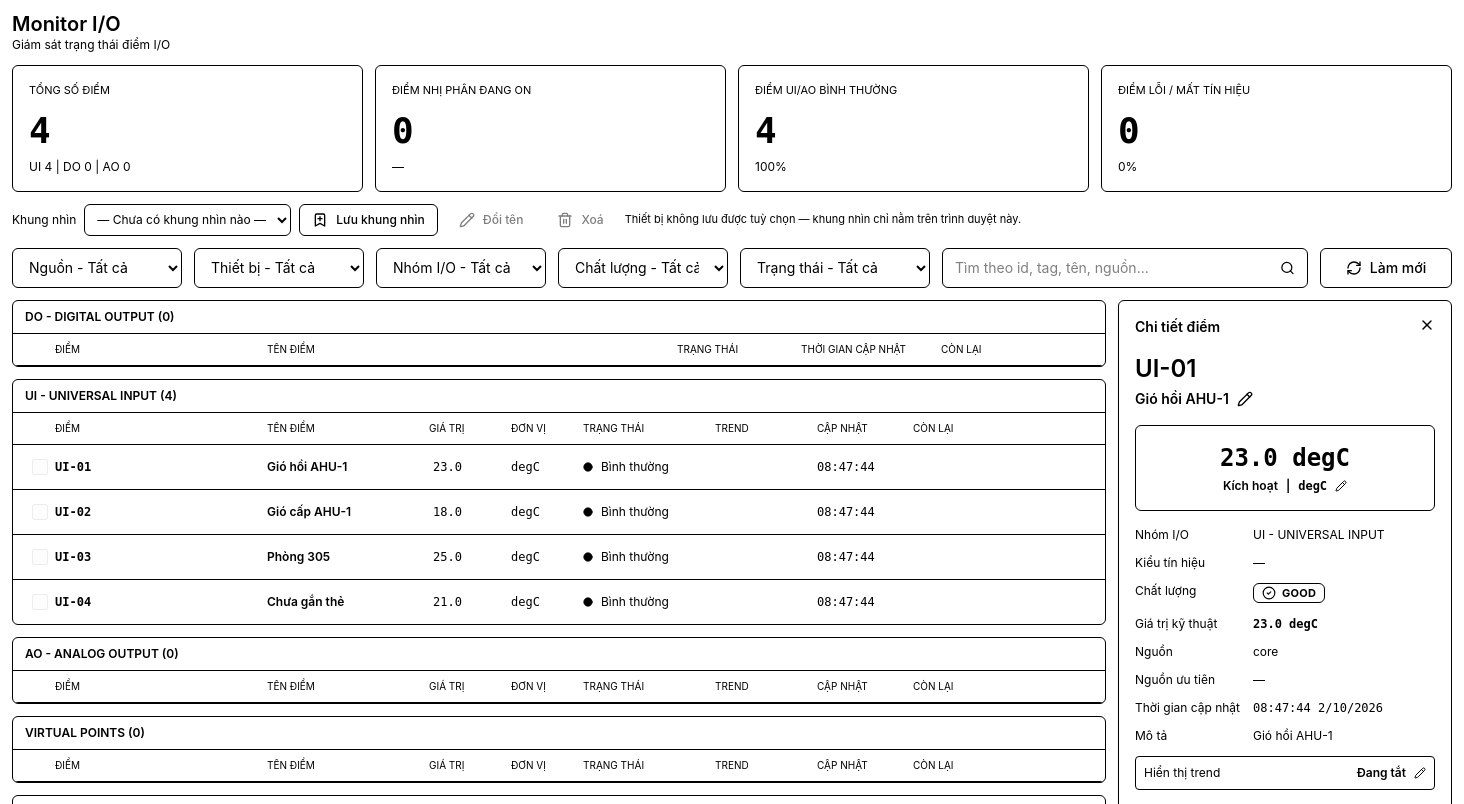
T57-3.1 / T57-4.1 — nhóm điểm theo thiết bị công nghệ › chọn một thiết bị thì chỉ còn điểm của thiết bị đó
The width and height of the screenshot is (1464, 804).
Step 1. Select "AHU-1" in the dropdown named "Lọc theo thiết bị công nghệ" → (279,268), box [194, 248, 364, 288]
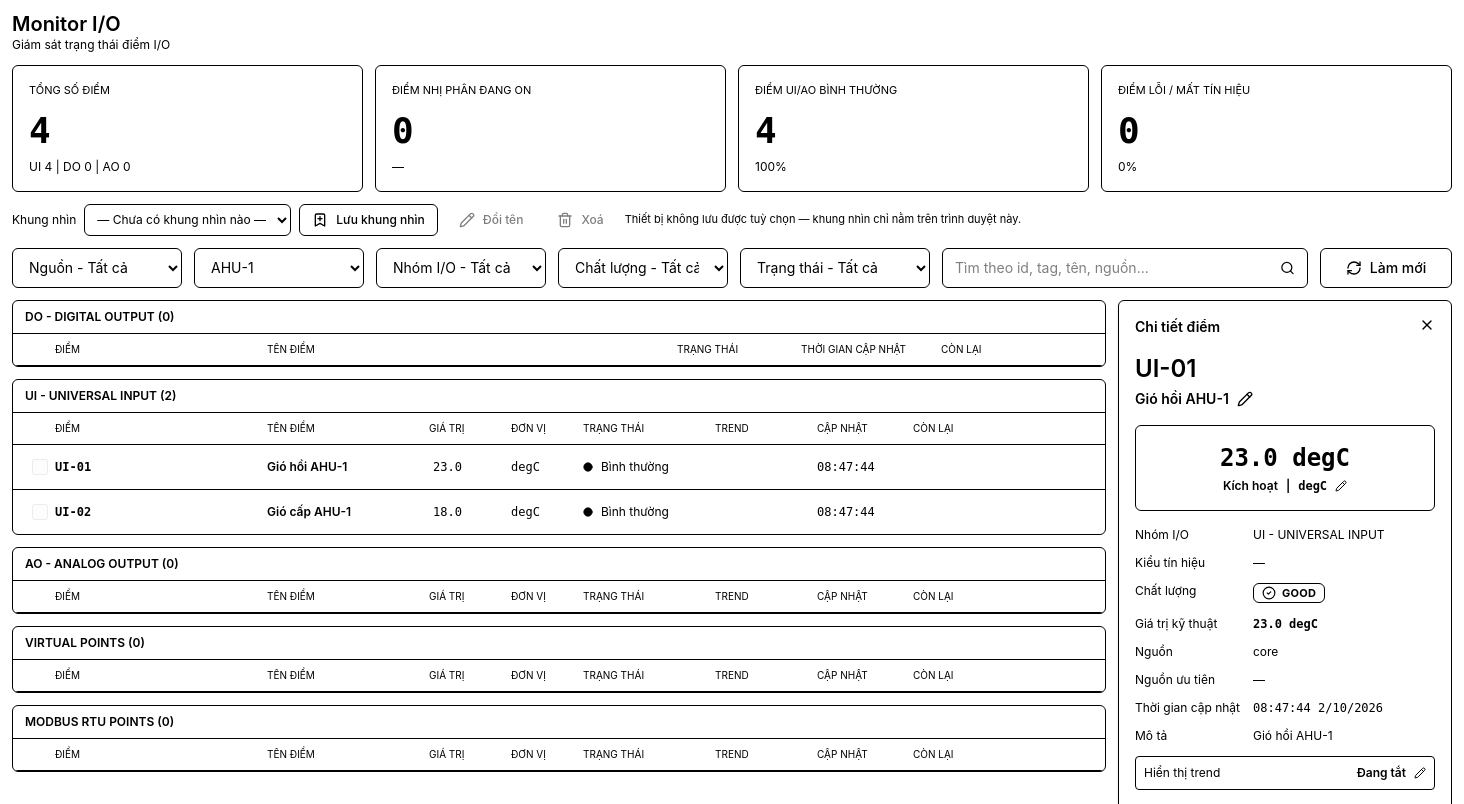
Expected: the text "Gió cấp AHU-1" is shown, [267, 504, 351, 518]
Result: no buttons "Phòng 305" are shown
Result: no buttons "Chưa gắn thẻ" are shown
